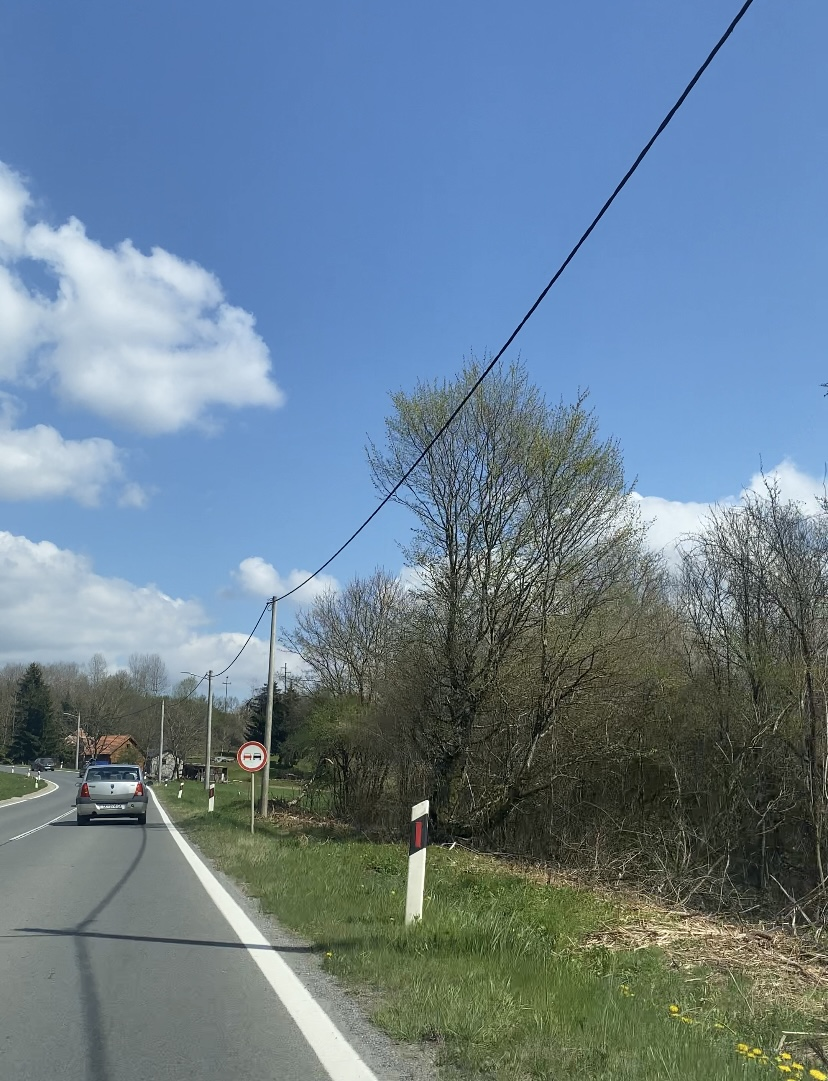Zabrana pretjecanja: (236, 741, 268, 772)
